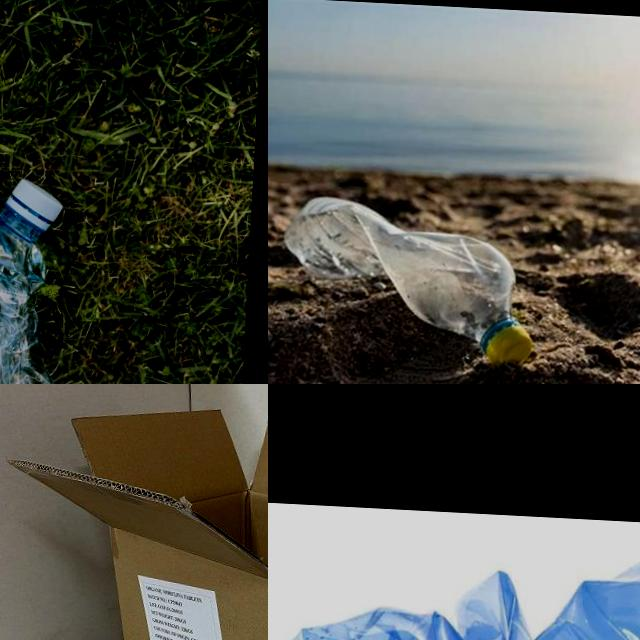garrafa plástica: (268, 510, 640, 640), (276, 195, 518, 345), (0, 211, 96, 384)
papelão: (0, 385, 268, 640)
tampa plástica: (11, 180, 66, 222), (486, 326, 535, 368)
